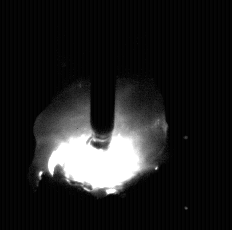arame: (90, 0, 116, 150)
poca: (34, 0, 167, 230)
